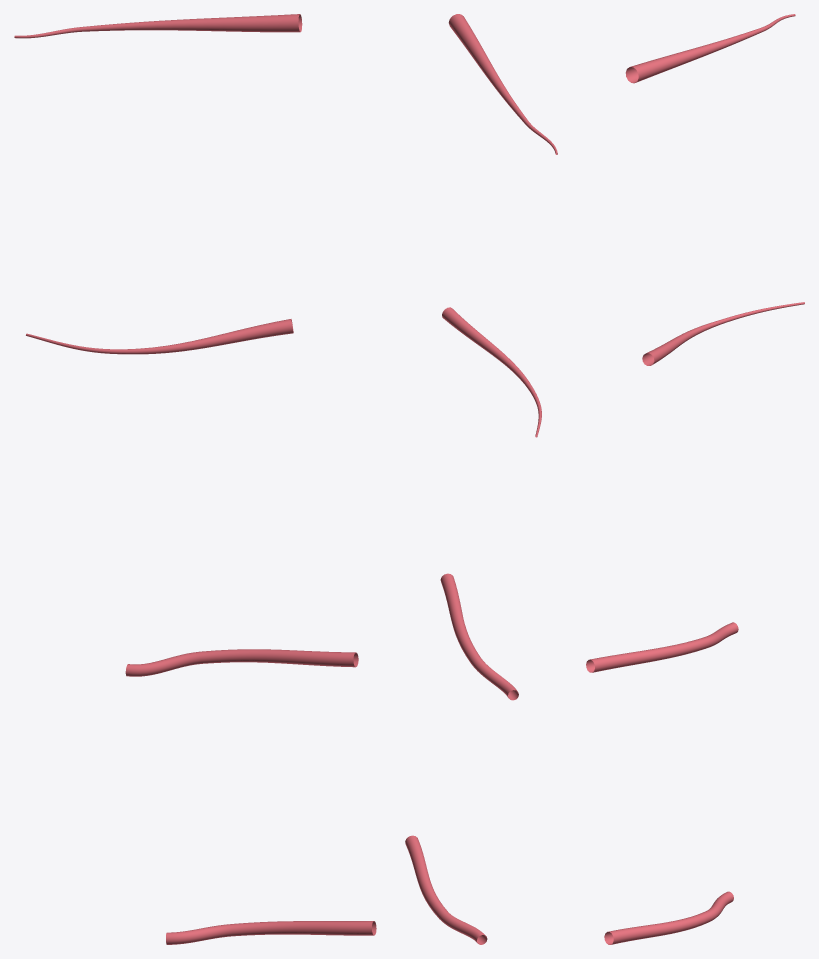
3 views of the same model, side by side, from view 1: azimuth 30°, elevation 25°; view 2: azimuth 150°, elevation 25°; view 3: azimuth 270°, elevation 25° (orthographic). The views are drawn at different scales.
Parts seen in each view (by area): view 1: ZA_3b49534b2a84784d; view 2: ZA_3b49534b2a84784d; view 3: ZA_3b49534b2a84784d.
Part boxes in pixels (x1=…): ZA_3b49534b2a84784d: x1=14, y1=14, x2=376, y2=944; ZA_3b49534b2a84784d: x1=405, y1=14, x2=557, y2=944; ZA_3b49534b2a84784d: x1=586, y1=14, x2=804, y2=944.
Bounding box in the file's own units: 0.049 × 0.1687 × 0.0384.
